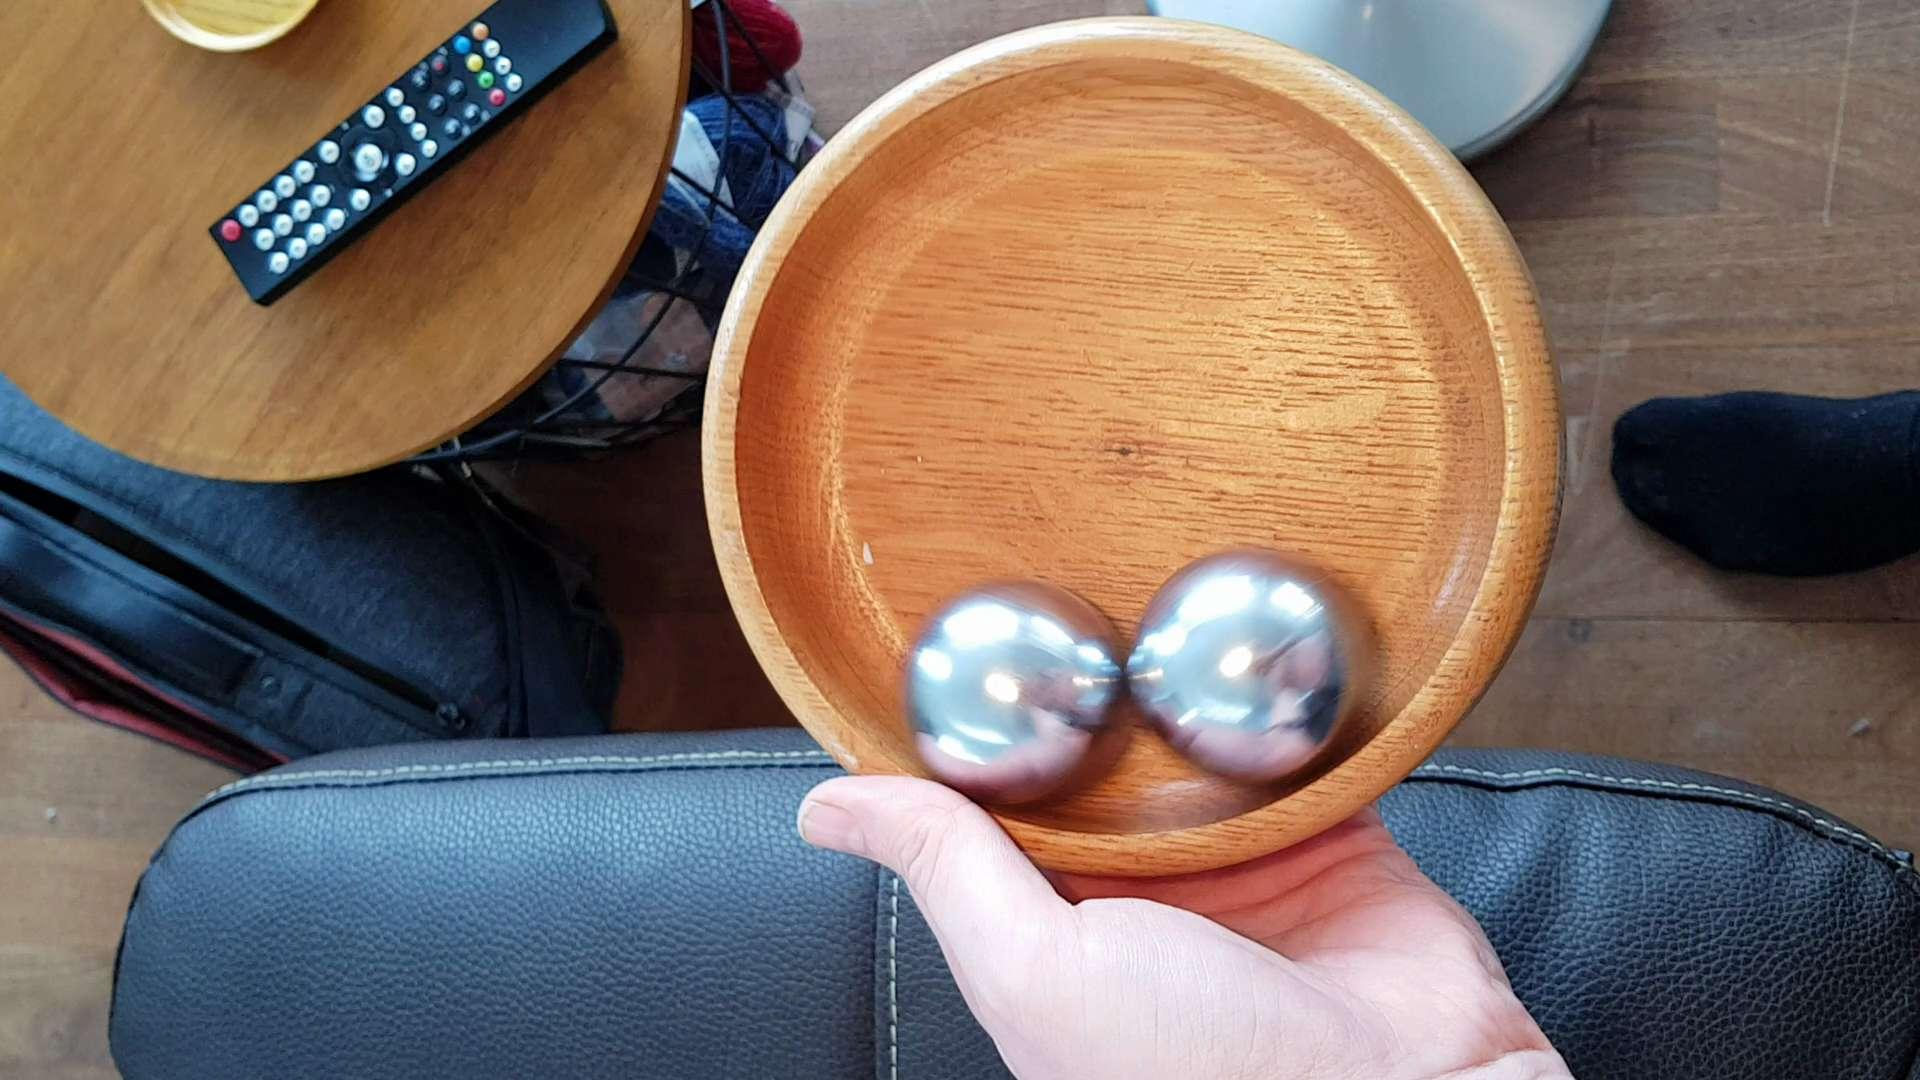sphere: (1108, 535, 1371, 787), (891, 579, 1125, 785)
